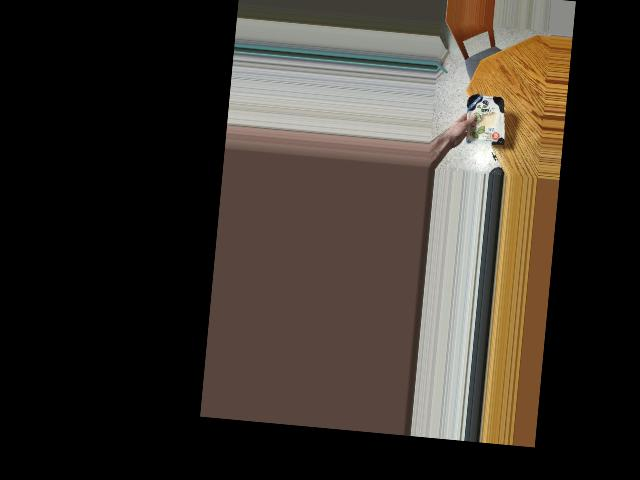cheese: (464, 85, 509, 155)
